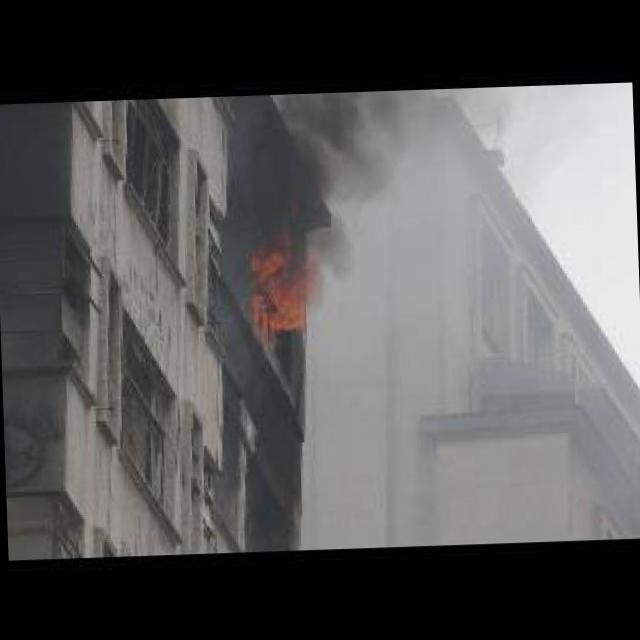fire: (247, 230, 316, 346)
smoke: (240, 89, 368, 234), (314, 230, 364, 299)
